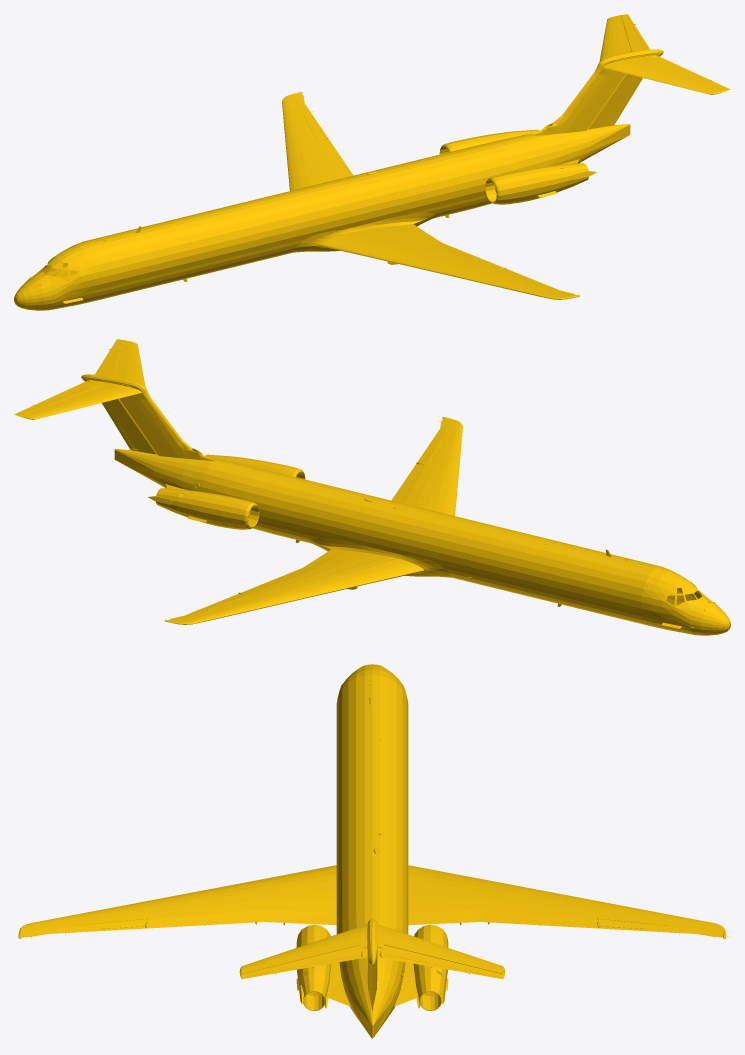
The picture shows the model from 3 angles, top to bottom: view 1: azimuth 30°, elevation 25°; view 2: azimuth 150°, elevation 25°; view 3: azimuth 270°, elevation 25°; orthographic projection. The views are drawn at different scales.
Size of the model in its own units: 45.25 by 7.89 by 33.3.
